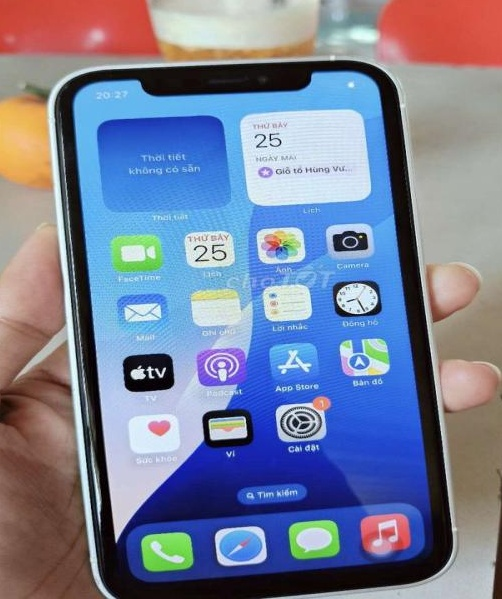scratch: (55, 80, 84, 98)
